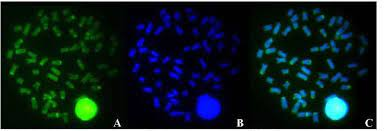Cromossomo: (328, 16, 336, 29), (154, 26, 165, 35), (203, 72, 214, 81), (164, 101, 173, 112), (270, 87, 282, 95), (143, 86, 154, 94), (172, 66, 183, 74), (153, 97, 161, 108), (145, 23, 152, 35), (162, 14, 171, 23), (283, 26, 292, 35), (169, 72, 179, 80), (188, 80, 198, 88), (274, 23, 282, 33), (265, 38, 273, 48), (327, 60, 335, 70), (138, 47, 149, 54), (218, 42, 225, 53), (229, 69, 240, 76), (281, 98, 288, 109), (50, 67, 61, 74), (79, 16, 86, 27), (162, 56, 171, 64), (175, 26, 183, 35), (199, 59, 207, 68), (303, 26, 311, 35), (359, 69, 368, 77), (40, 57, 48, 66), (53, 26, 61, 35), (136, 39, 146, 46), (189, 14, 199, 21), (260, 65, 267, 75), (47, 73, 57, 80), (7, 49, 14, 59), (8, 65, 15, 75), (48, 111, 58, 118), (32, 98, 37, 112), (173, 58, 184, 64), (265, 48, 276, 54), (51, 59, 62, 65), (170, 112, 183, 117), (320, 43, 328, 51), (316, 80, 324, 88), (66, 81, 74, 89), (70, 30, 78, 38), (159, 8, 168, 15), (164, 21, 173, 28), (133, 64, 140, 73), (152, 67, 161, 74), (209, 16, 216, 25), (279, 50, 288, 57), (14, 39, 23, 46), (185, 112, 191, 122), (309, 47, 319, 53), (263, 24, 273, 30), (297, 74, 307, 80), (301, 59, 311, 65), (314, 112, 319, 124), (341, 34, 353, 39), (348, 63, 358, 69), (129, 49, 136, 57), (155, 80, 162, 88), (301, 98, 308, 106), (298, 110, 306, 117), (292, 22, 299, 30), (338, 15, 343, 26), (25, 23, 30, 34), (151, 51, 160, 57), (192, 72, 201, 78), (206, 46, 212, 55), (16, 47, 25, 53), (218, 64, 231, 68), (148, 57, 158, 62), (213, 34, 223, 39), (311, 91, 316, 101), (291, 58, 298, 65), (295, 93, 302, 100), (136, 24, 144, 30), (300, 89, 306, 97), (287, 10, 295, 16), (28, 52, 36, 58), (277, 58, 286, 63), (312, 9, 321, 14), (346, 43, 351, 52), (24, 59, 35, 63), (20, 89, 31, 93), (138, 77, 145, 83), (174, 13, 180, 20), (202, 41, 208, 48), (193, 44, 199, 51), (173, 90, 180, 96), (342, 77, 349, 83), (333, 47, 340, 53), (32, 69, 39, 75), (213, 77, 221, 82), (257, 50, 262, 58), (320, 74, 328, 79), (184, 46, 190, 52), (61, 91, 65, 100), (43, 94, 52, 98), (282, 69, 289, 74), (194, 29, 199, 35)
